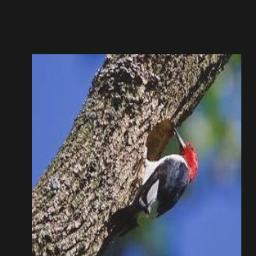Woodpecker: (107, 128, 198, 246)
